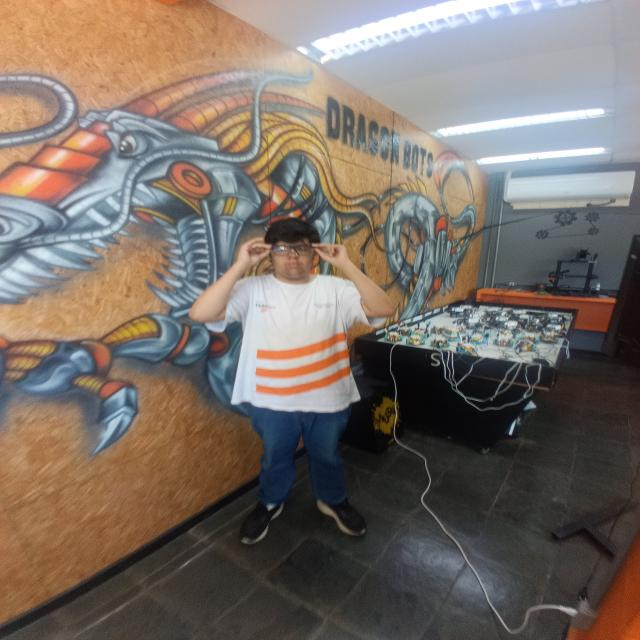oculos-epi: (270, 238, 320, 260)
